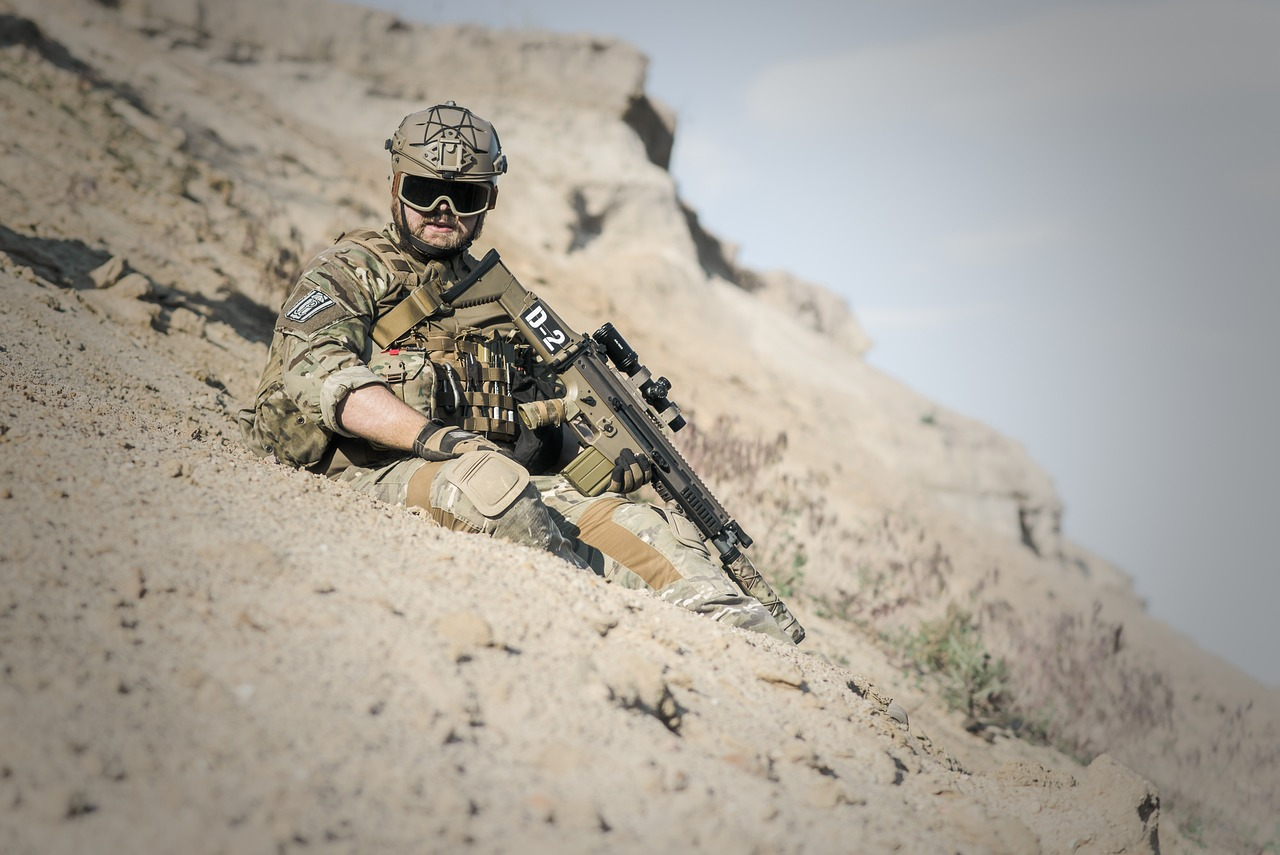gun: (433, 244, 808, 650)
